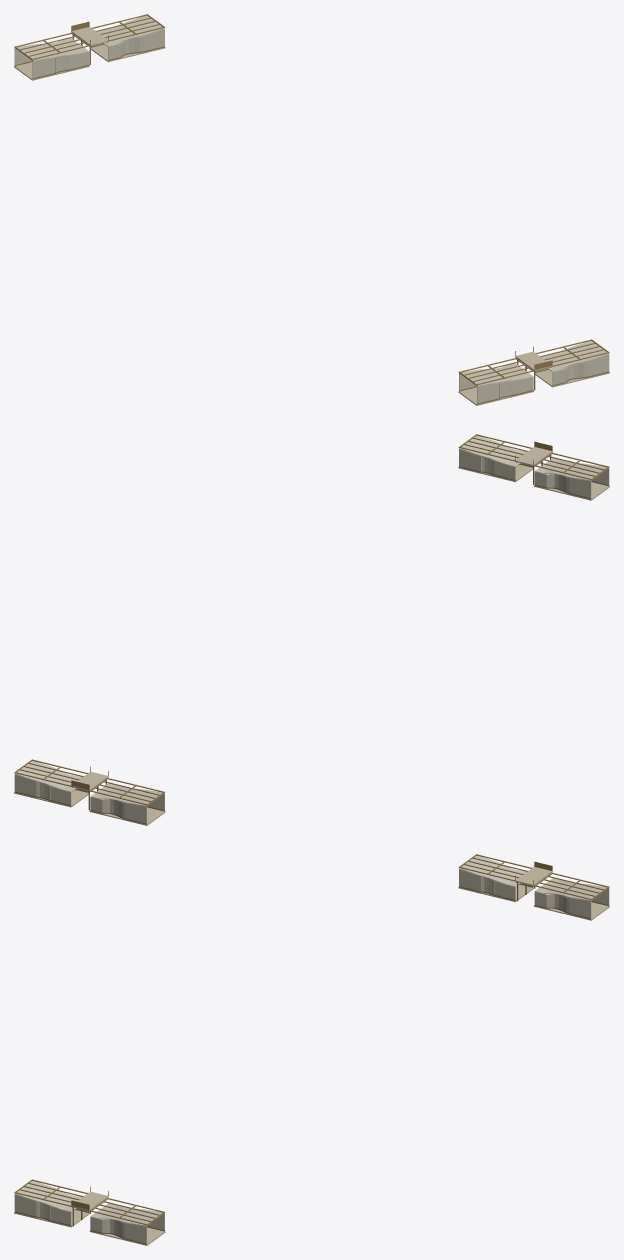
Rendered from StarAtlasSpecialtyFourthReceiving.glb.
3 renders of one model, top to bottom at view 1: azimuth 30°, elevation 25°; view 2: azimuth 150°, elevation 25°; view 3: azimuth 330°, elevation 25°, orthographic.
Bounding box in the file's own units: 29.9 × 5.82 × 180.
10 materials, 10 textured.
